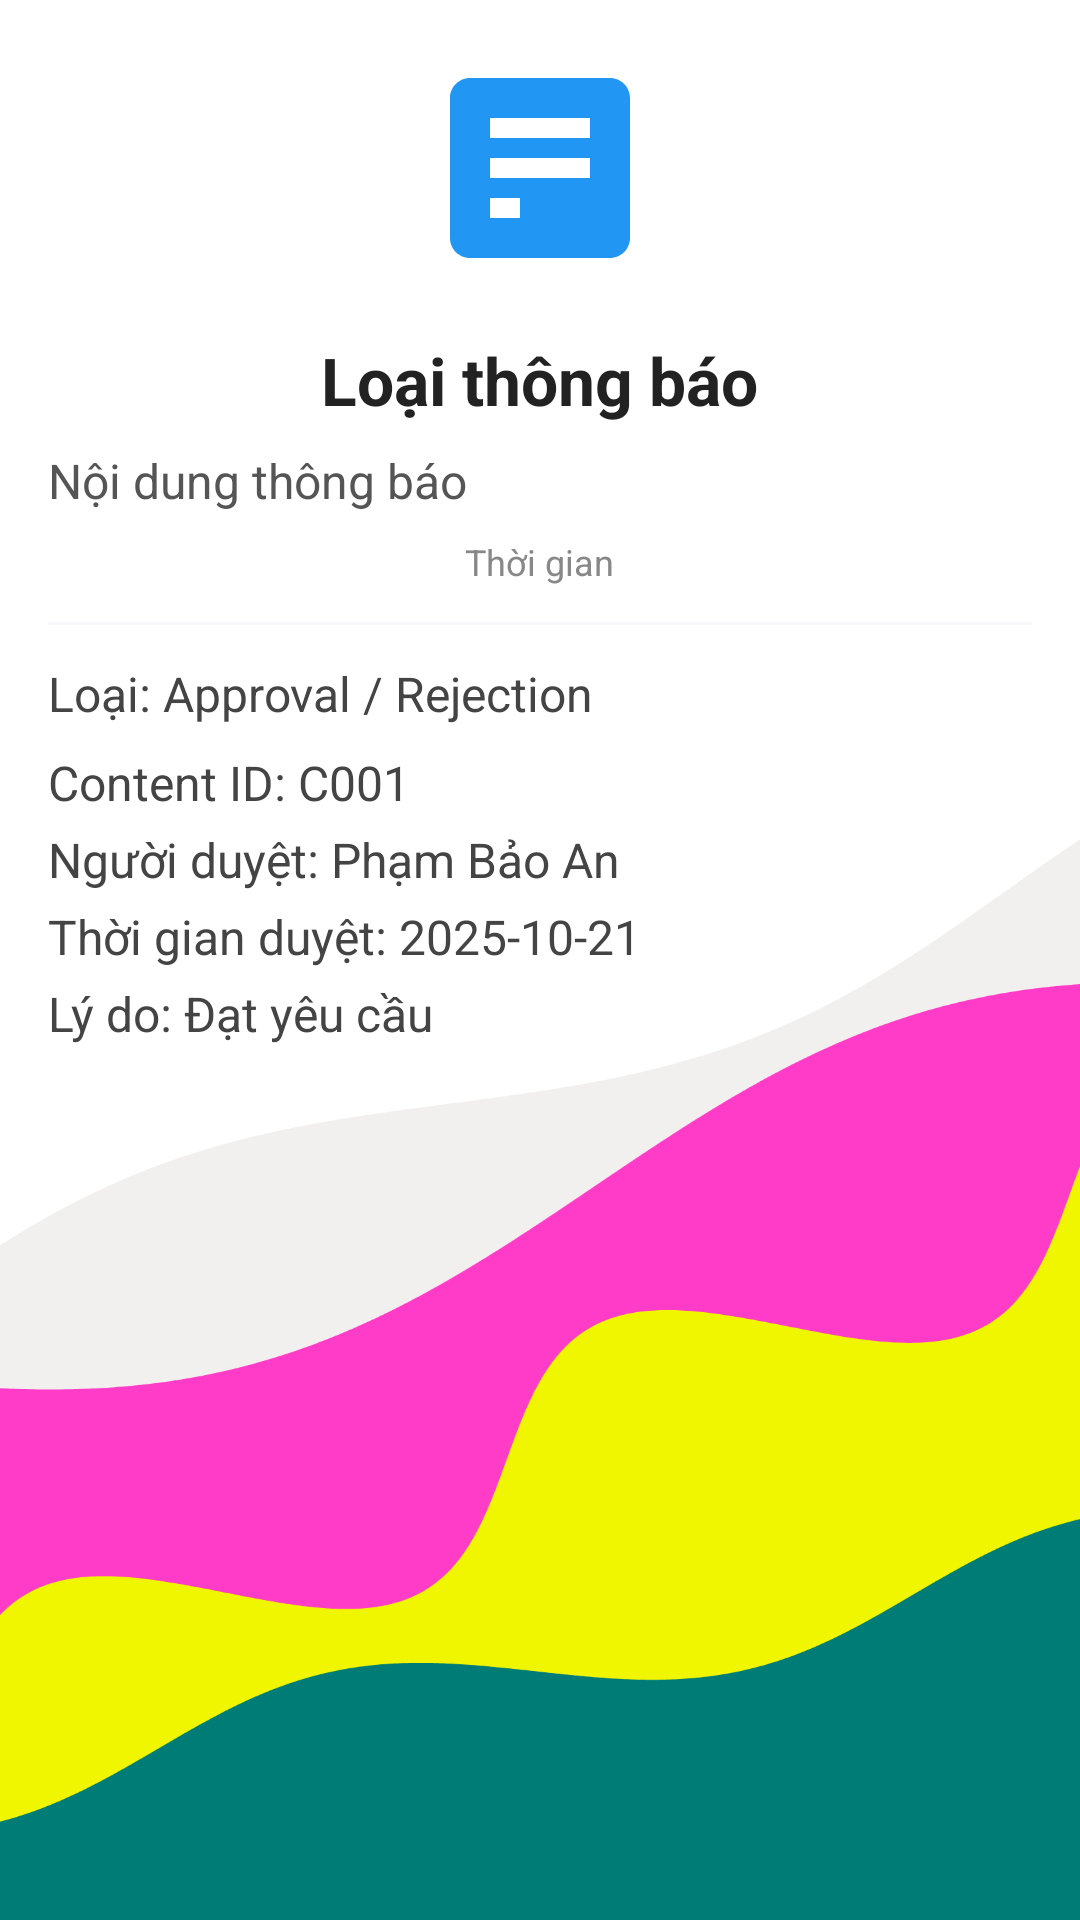

Named icons in this screenshot (1080 x 1920) and their bounding boxes, (x1, y1, x2, y2):
Notification Icon: (450, 78, 630, 258)
